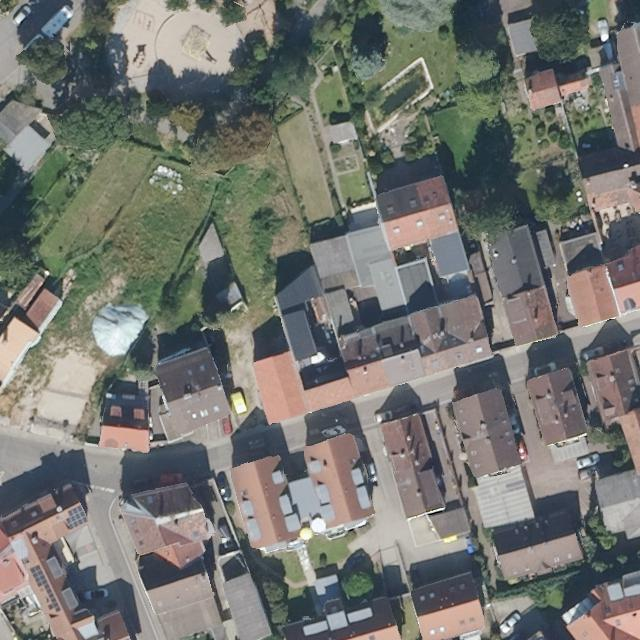PV: (28, 562, 62, 615), (64, 504, 89, 531)
